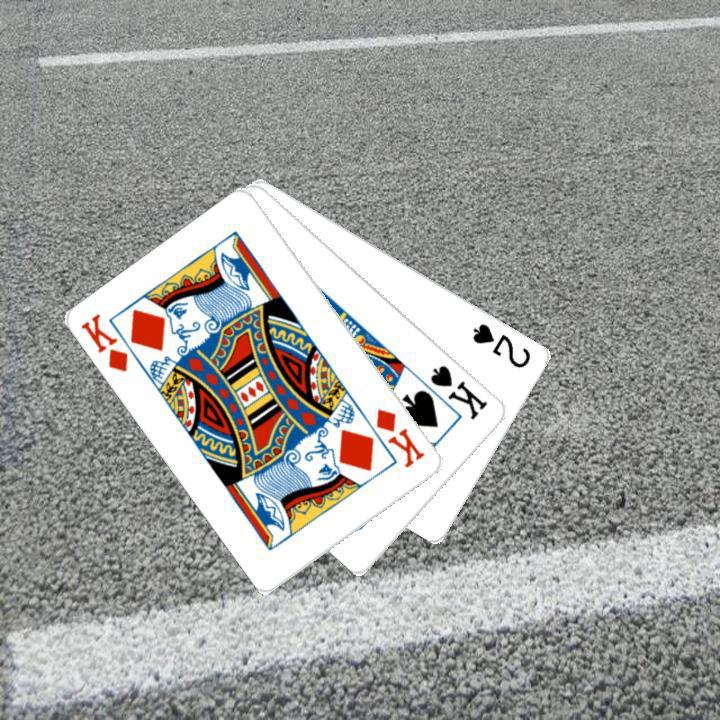2: (468, 319, 534, 370)
K: (426, 360, 491, 422), (372, 403, 427, 470), (76, 309, 131, 375)
